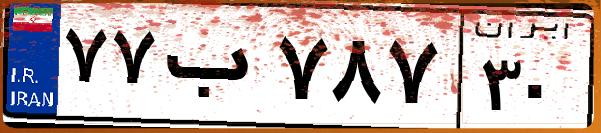0: (525, 38, 570, 115)
3: (475, 38, 525, 113)
7: (270, 28, 330, 110), (385, 28, 445, 110), (57, 26, 110, 100), (110, 28, 158, 98)
8: (330, 28, 385, 110)
ب: (158, 20, 270, 120)
